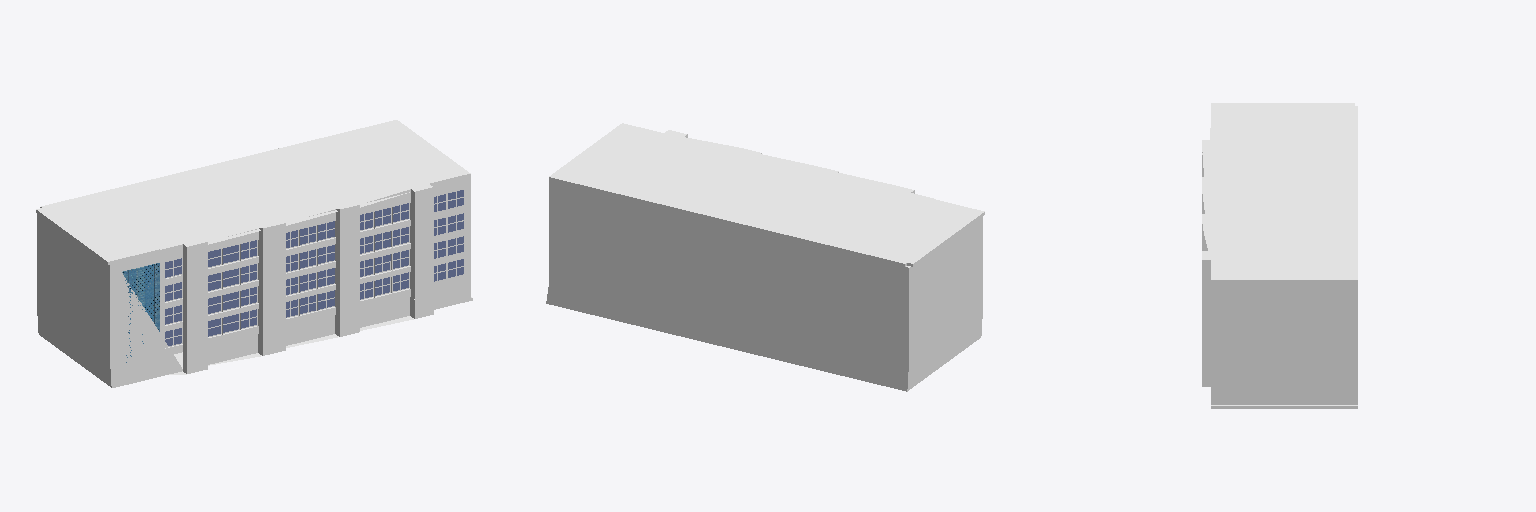
The picture shows the model from 3 angles: view 1: azimuth 30°, elevation 25°; view 2: azimuth 150°, elevation 25°; view 3: azimuth 270°, elevation 25°; orthographic projection.
Parts seen in each view (by area): view 1: Mesh1 Model; view 2: Mesh1 Model; view 3: Mesh1 Model.
Boxes of the visible parts, x1=… form: Mesh1 Model: x1=36, y1=120, x2=472, y2=387; Mesh1 Model: x1=546, y1=123, x2=984, y2=391; Mesh1 Model: x1=1202, y1=103, x2=1357, y2=408.
Bounding box in the file's own units: 1696 × 566 × 631.
Materials: 3 (1 with a texture image).